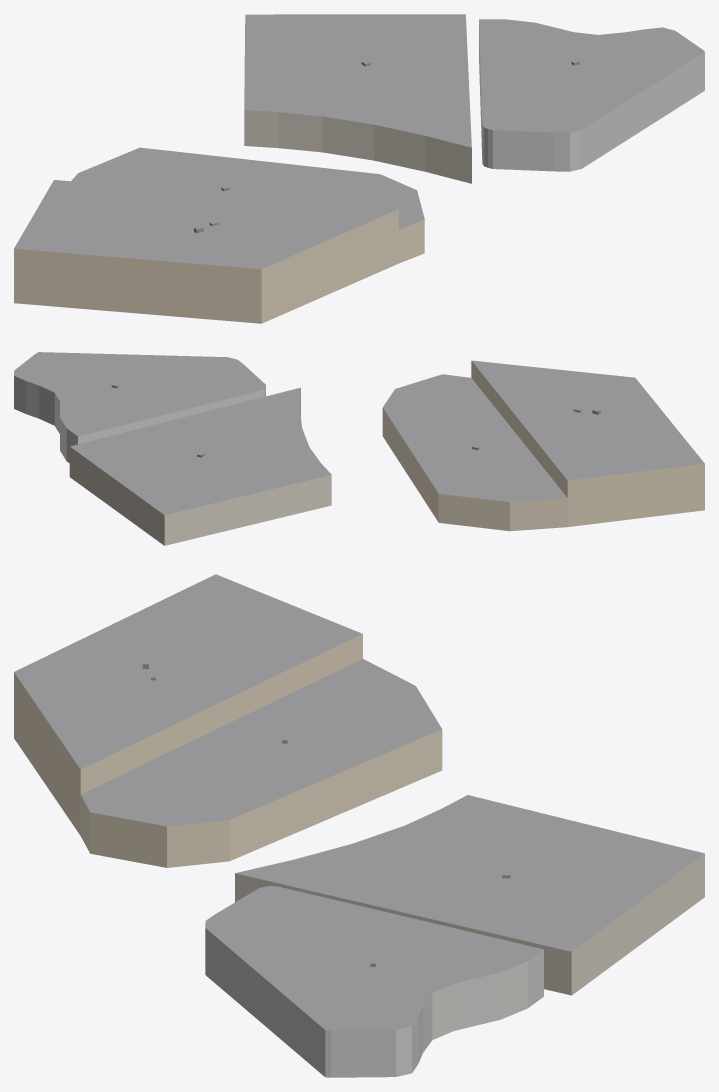
Rendered from building_3_2.glb.
3 renders of one model, top to bottom at view 1: azimuth 30°, elevation 25°; view 2: azimuth 150°, elevation 25°; view 3: azimuth 270°, elevation 25°, orthographic. The views are drawn at different scales.
Parts seen in each view (by area): view 1: roof, sandstone, concrete_light, concrete_warm; view 2: roof, sandstone, concrete_warm, concrete_light; view 3: roof, sandstone, concrete_light, concrete_warm.
Part boxes in pixels (x1=…): roof: x1=14, y1=14, x2=704, y2=269; sandstone: x1=14, y1=209, x2=424, y2=323; concrete_light: x1=479, y1=25, x2=704, y2=171; concrete_warm: x1=244, y1=110, x2=471, y2=183; roof: x1=14, y1=352, x2=704, y2=514; sandstone: x1=382, y1=361, x2=704, y2=531; concrete_warm: x1=69, y1=390, x2=331, y2=545; concrete_light: x1=14, y1=376, x2=265, y2=463; roof: x1=14, y1=574, x2=704, y2=1030; sandstone: x1=14, y1=634, x2=442, y2=867; concrete_light: x1=205, y1=928, x2=543, y2=1077; concrete_warm: x1=235, y1=853, x2=704, y2=995.
Size of the model in its own units: 282 by 21.38 by 189.
